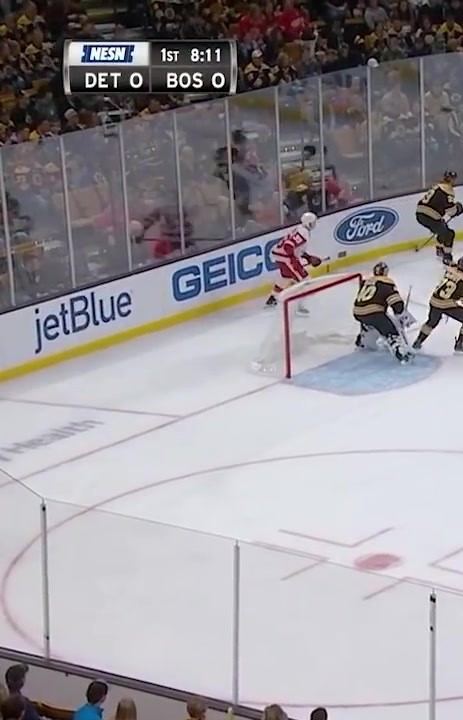Geico: (169, 229, 283, 314)
